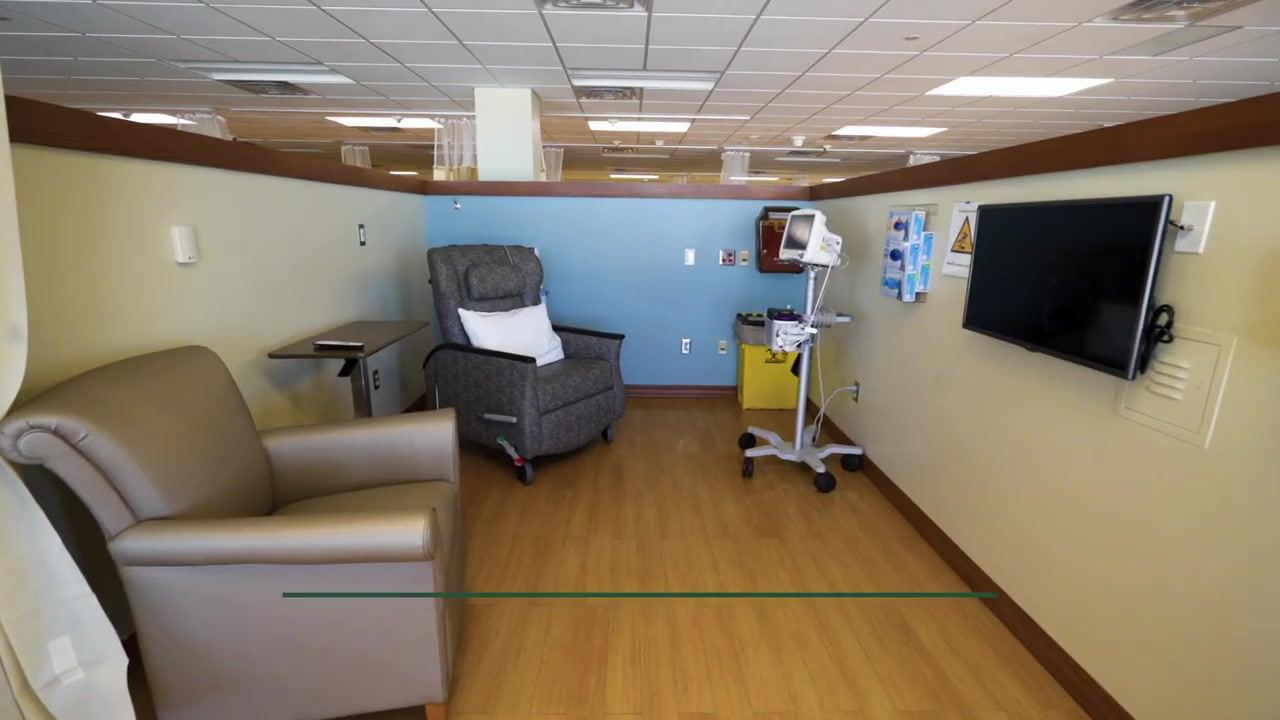TV: (961, 194, 1177, 381)
bedside_monitor: (779, 209, 824, 261)
curtain: (432, 116, 479, 185)
dispenser: (878, 209, 933, 302)
sofa: (1, 342, 466, 720), (426, 240, 628, 484)
table: (266, 312, 434, 418)
waste_bin: (735, 311, 809, 411)
